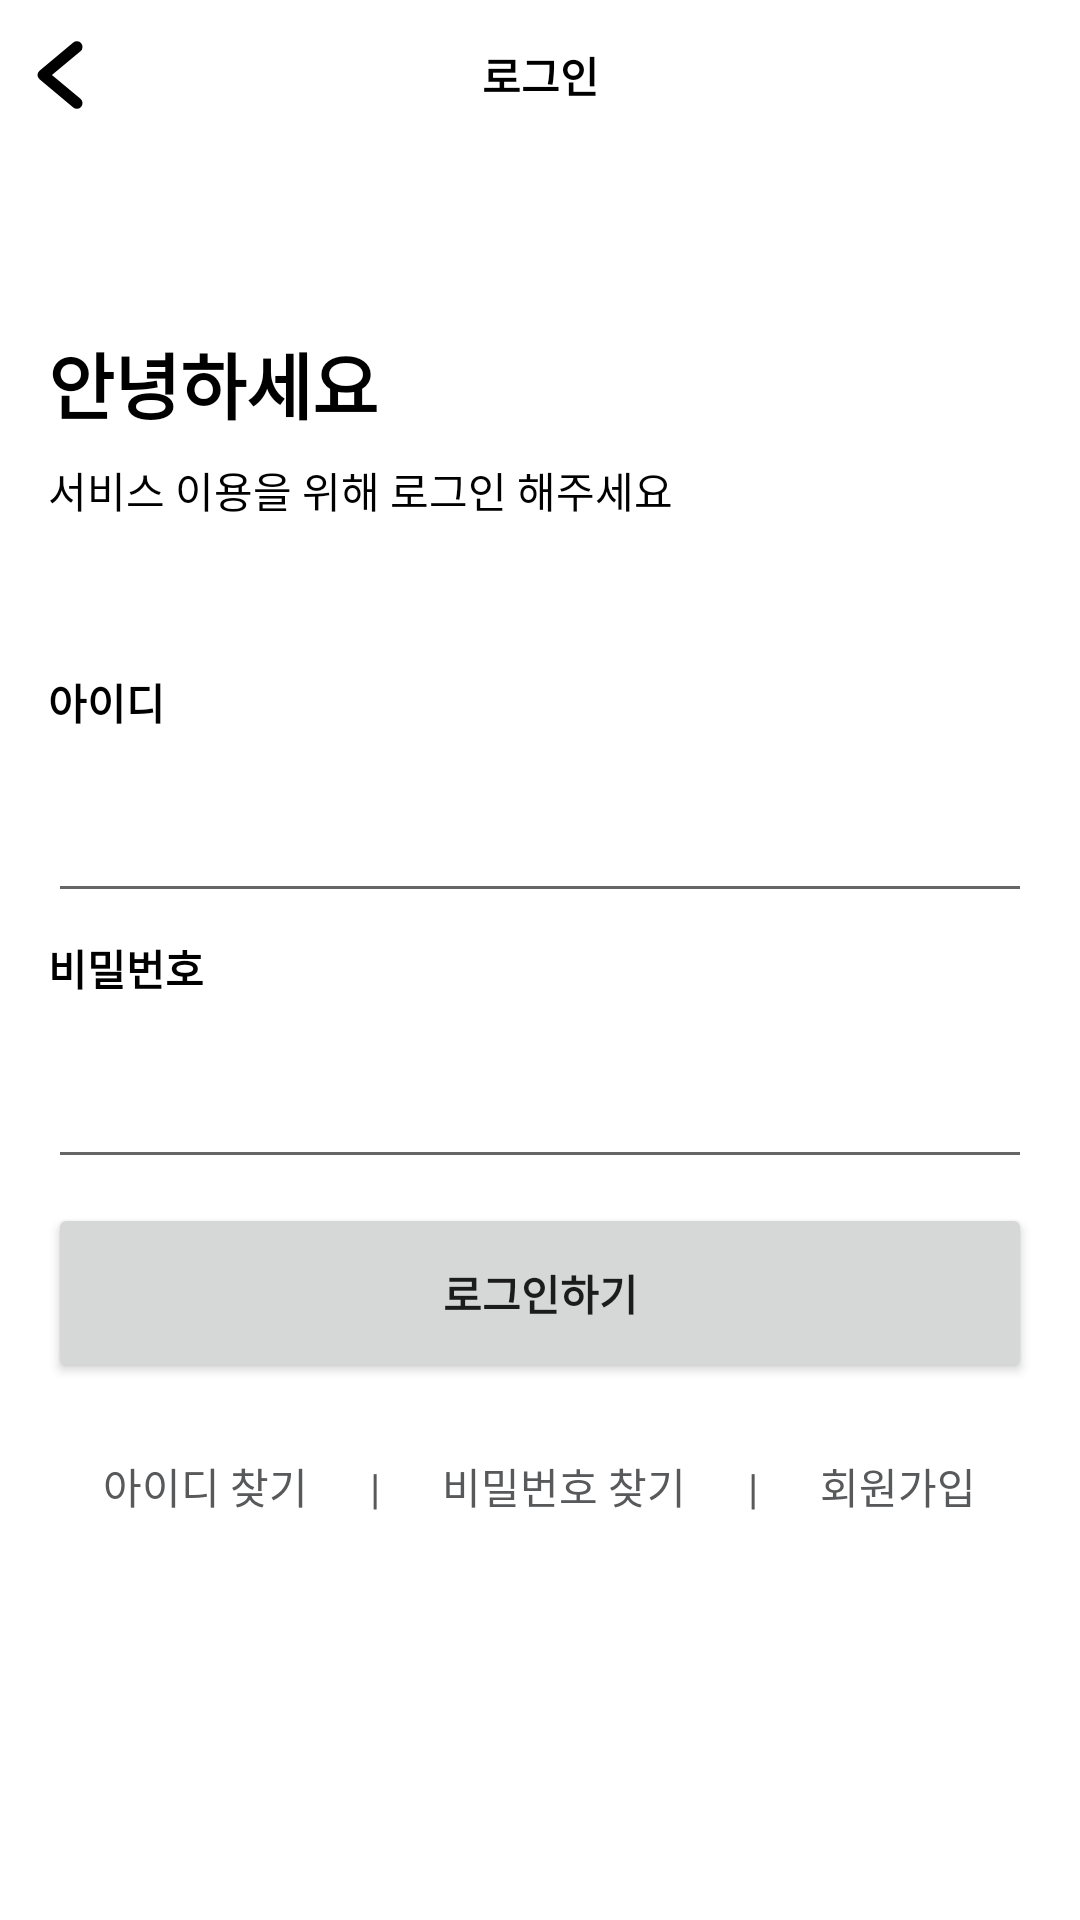

Point at icon controls on the screen. Image size 1080x1920, points as (x,y).
back: (60,75)
